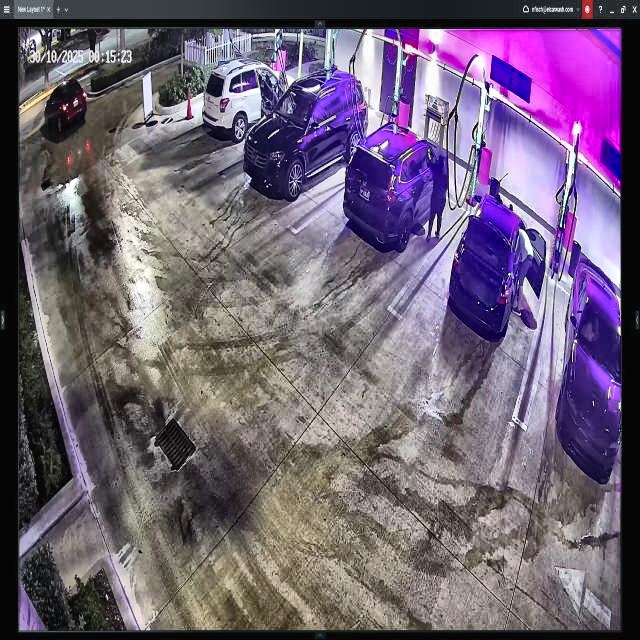Car: (245, 69, 368, 196), (441, 194, 543, 338), (345, 119, 448, 254)
